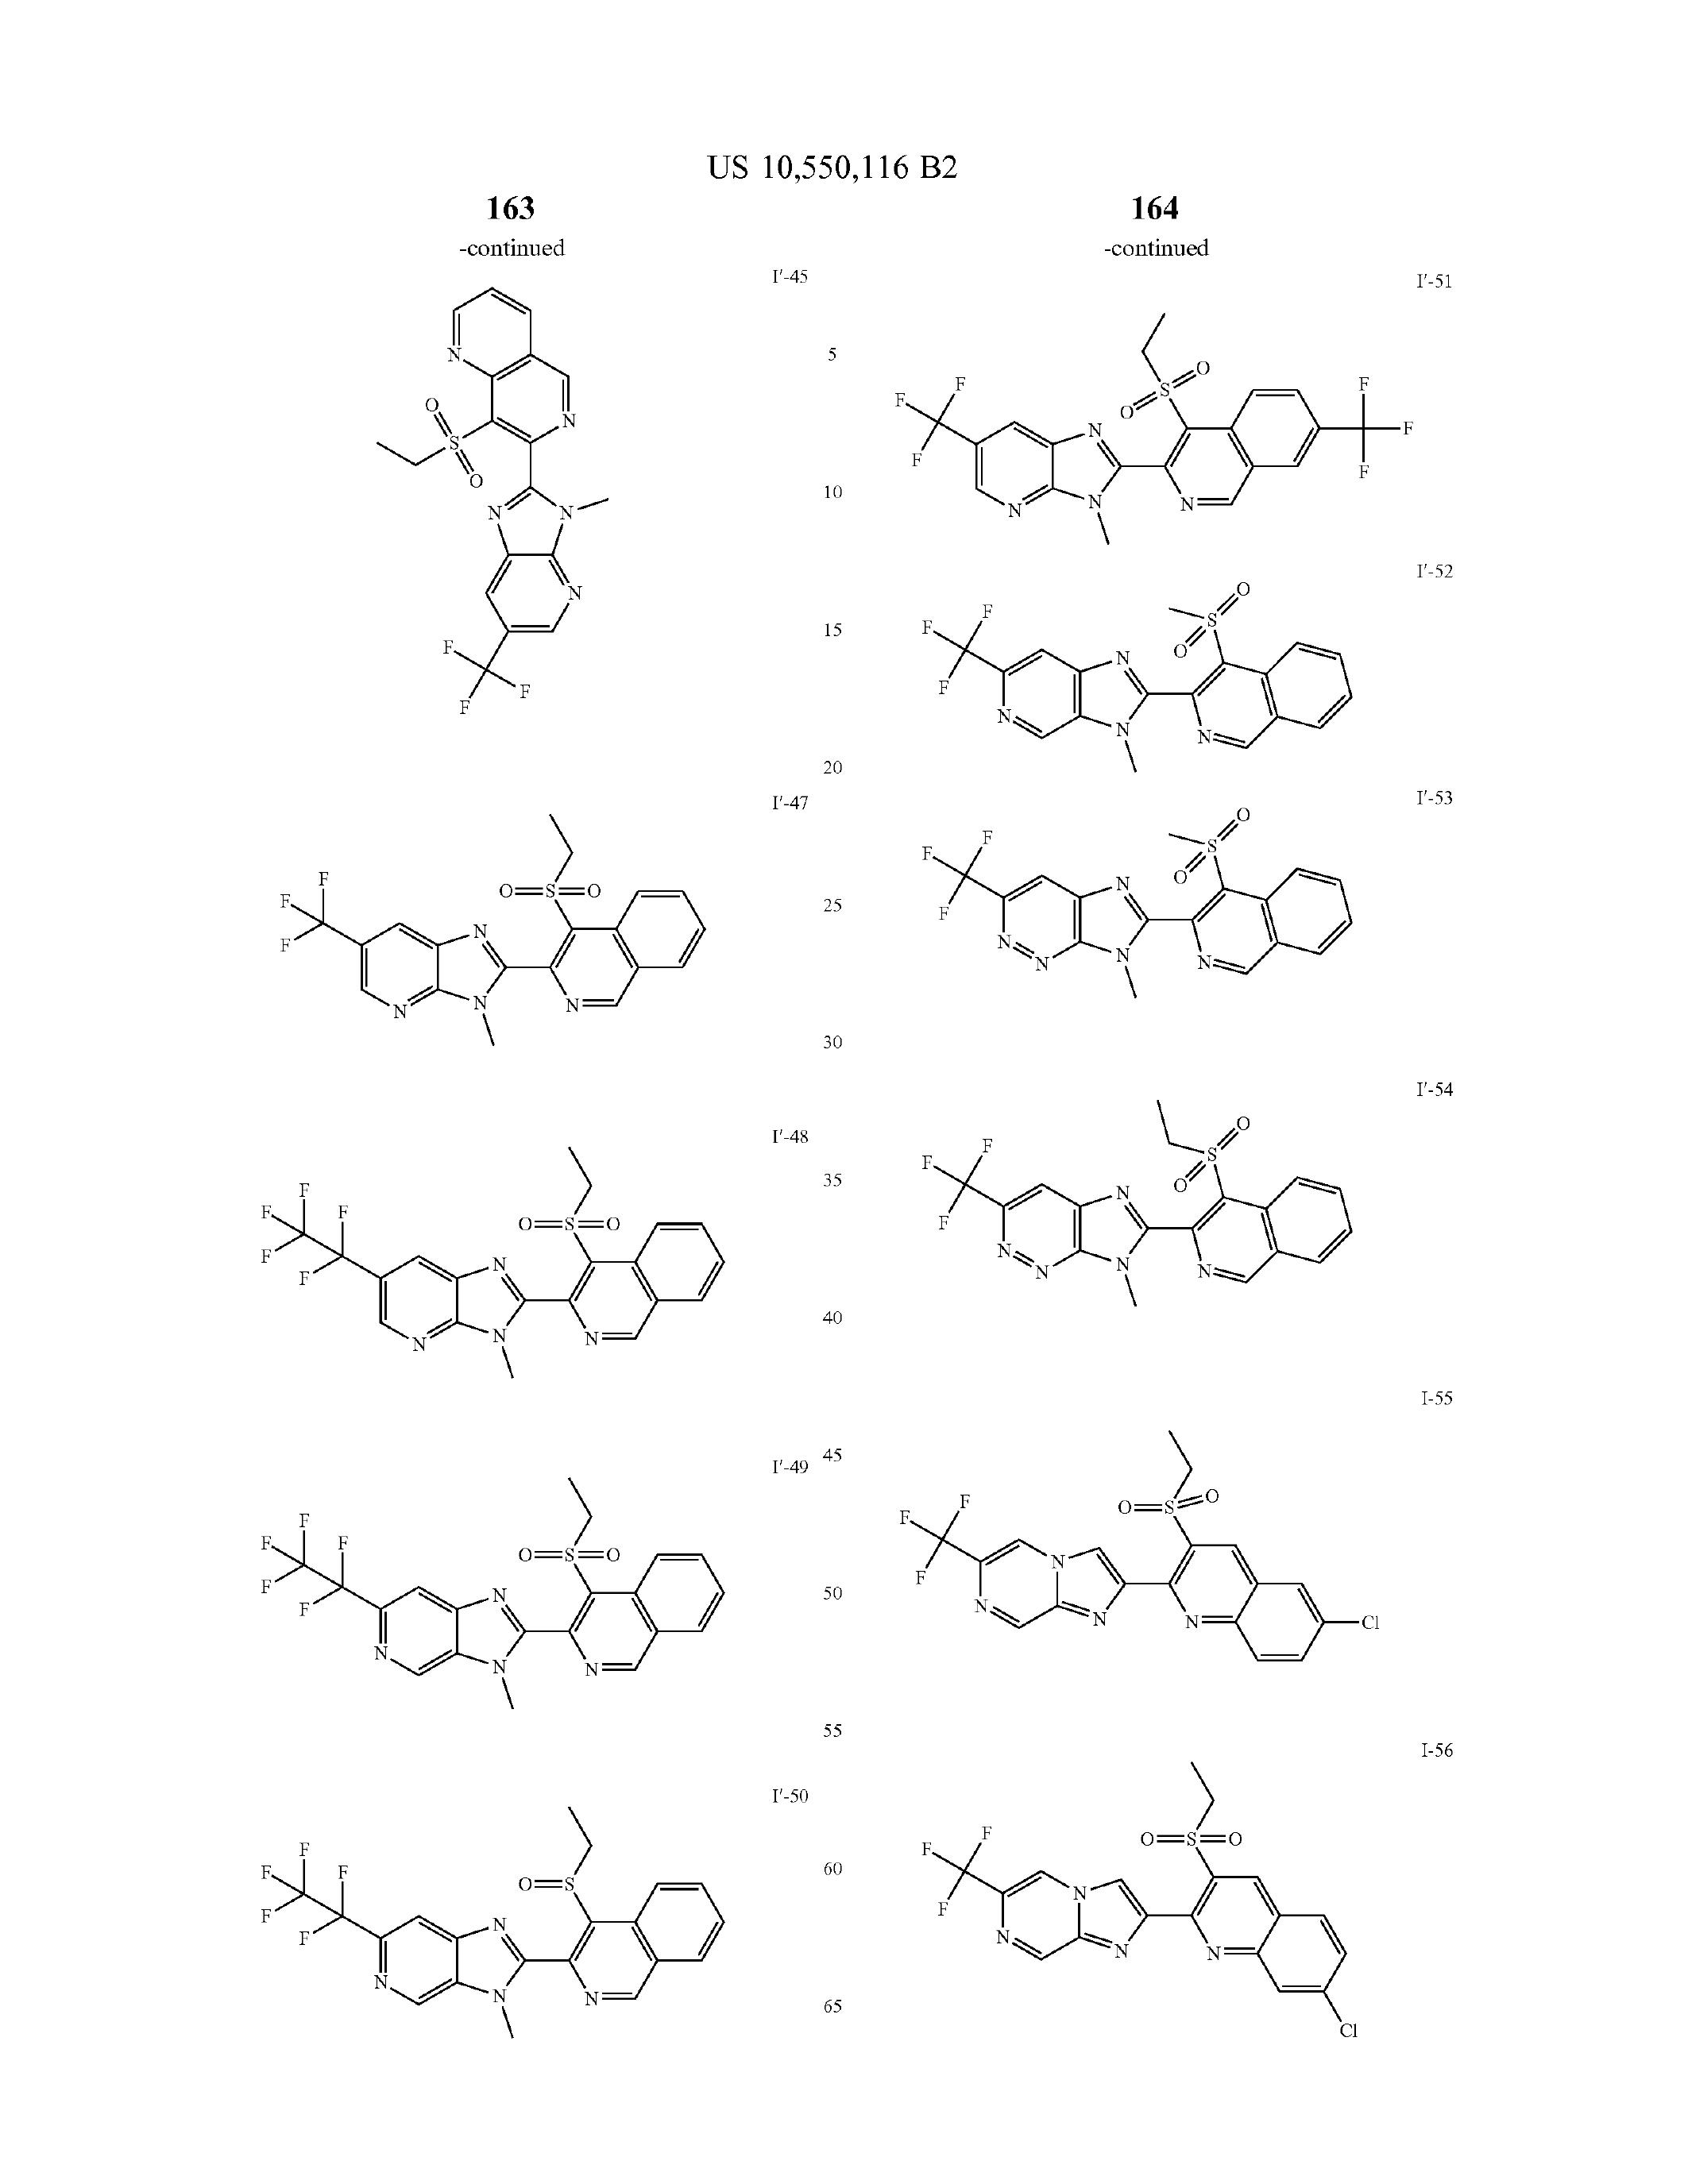relevant-structures: (218, 259, 1532, 2140)
